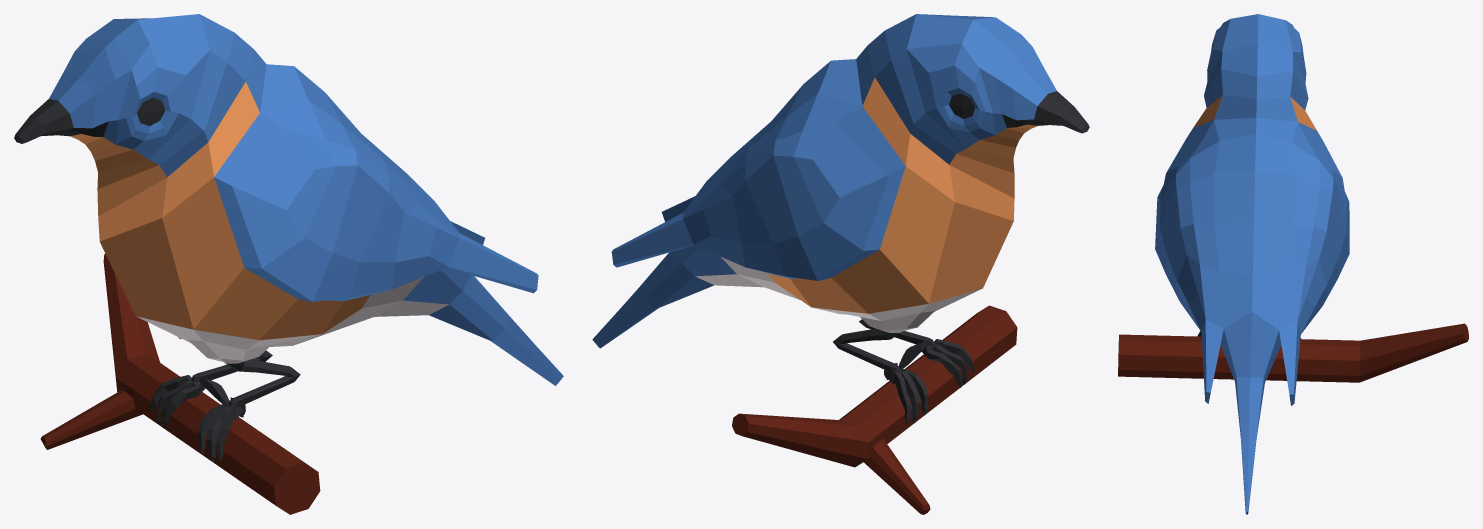
The model's file is blue_bird.glb.
The picture shows the model from 3 angles, left to right: view 1: azimuth 30°, elevation 25°; view 2: azimuth 150°, elevation 25°; view 3: azimuth 270°, elevation 25°; orthographic projection. The views are drawn at different scales.
Visible parts, largest first — view 1: bird_0, branch_1; view 2: bird_0, branch_1; view 3: bird_0, branch_1.
Part boxes in pixels (left/top/right/bottom): bird_0: left=14, top=14, right=563, bottom=462; branch_1: left=40, top=253, right=320, bottom=514; bird_0: left=592, top=14, right=1089, bottom=423; branch_1: left=732, top=305, right=1017, bottom=514; bird_0: left=1155, top=14, right=1349, bottom=514; branch_1: left=1118, top=323, right=1468, bottom=382.
Size of the model in its own units: 2.34 by 1.97 by 1.73.
